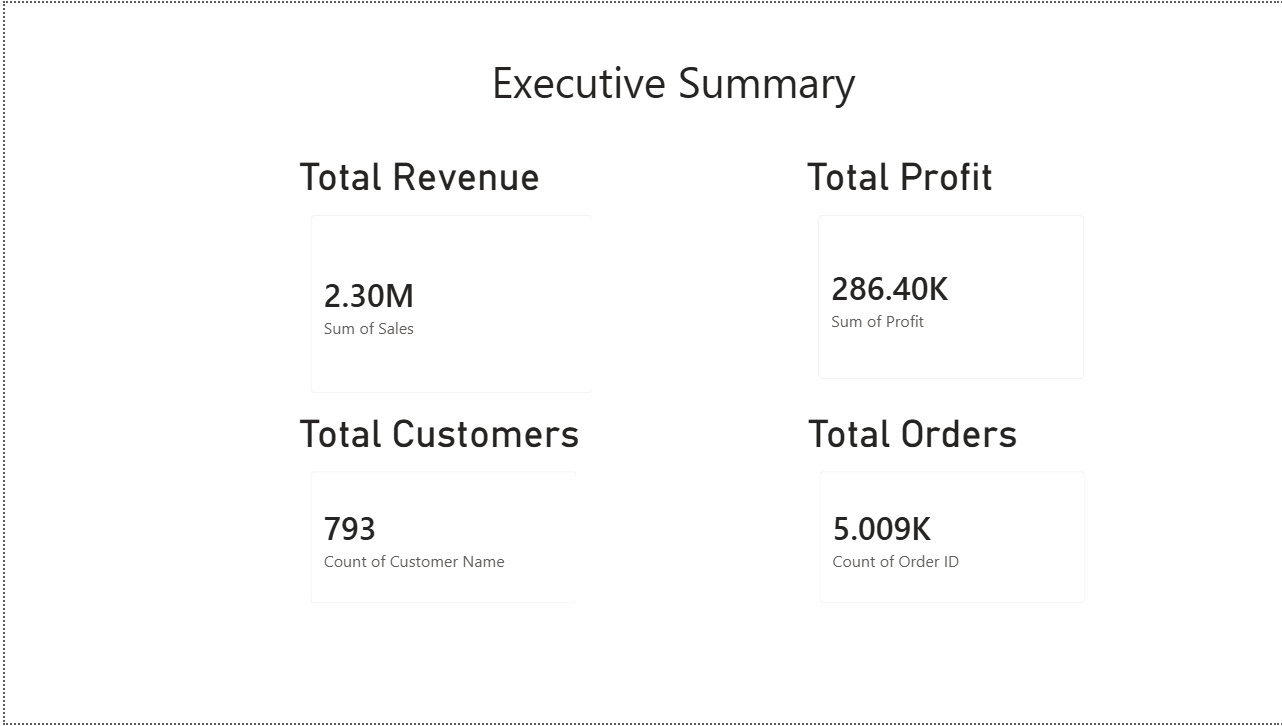

This screenshot's page, from the dashboard's own definition file:
{"tool":"powerbi","page":{"name":"Executive Summary","canvas":[1280,720],"ordinal":0},"visuals":[{"type":"cardVisual","title":"Total Revenue","fields":{"Data":["Sum(processed_sales.Sales)"]},"box":[288.8,202.5,316.2,256.2],"z":0},{"type":"cardVisual","title":"Total Profit","fields":{"Data":["Sum(processed_sales.Profit)"]},"box":[796.2,216.2,301.2,242.5],"z":1000},{"type":"cardVisual","title":"Total Orders","fields":{"Data":["Count(processed_sales.Order ID)"]},"box":[797.5,458.8,300,211.2],"z":2000},{"type":"cardVisual","title":"Total Customers","fields":{"Data":["Count(processed_sales.Customer Name)"]},"box":[288.8,458.8,316.2,211.2],"z":3000},{"type":"textbox","box":[288.8,43.8,808.8,107.5],"z":4000}]}

Visuals, with their boxes in screenshot pixels (x1, y1, x2, y2), scaled from the page's 1280x720 canvas onto the 1282x726 screenshot:
"Total Revenue" cardVisual: <box>289,204,606,463</box>
"Total Profit" cardVisual: <box>797,218,1099,463</box>
"Total Orders" cardVisual: <box>799,463,1099,676</box>
"Total Customers" cardVisual: <box>289,463,606,676</box>
textbox: <box>289,44,1099,153</box>
